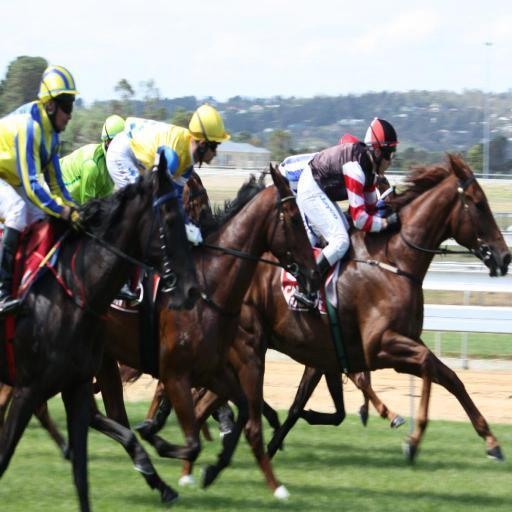horse: (0, 150, 512, 512)
